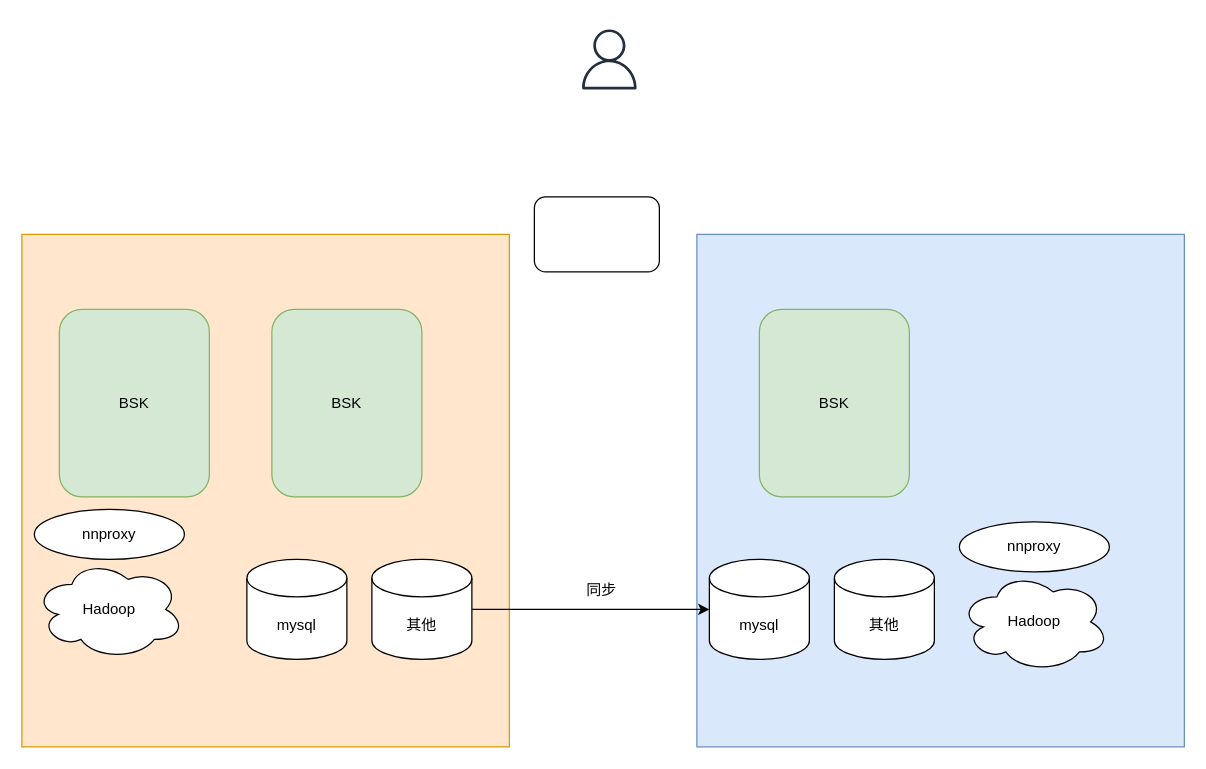
The diagram is 1206 pixels wide and 769 high, and some of its shapes have lost their labels. Each missing label, with the box of its shape:
bsk用户: (571, 21, 647, 97)
DNS: (533, 196, 659, 272)
常熟: (696, 233, 1184, 747)
江苏苏州: (21, 233, 509, 747)
